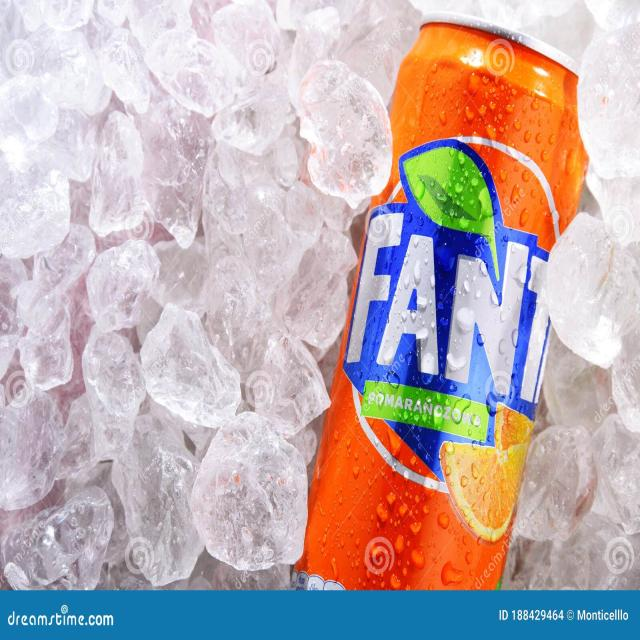fanta: (317, 10, 581, 603)
